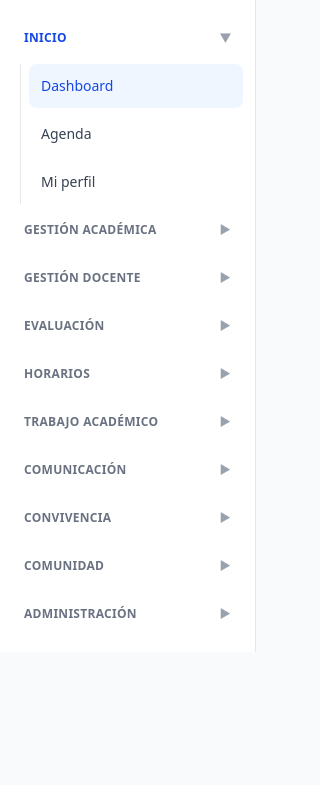
Test case: Sidebar por categorias › expande/colapsa categorias y recuerda estado
The width and height of the screenshot is (320, 785).
expect the text "Bandeja de entrada" is not shown: met
Click the button with aria-label "Categoría Comunicación" at (128, 470), box [12,448,243,492]
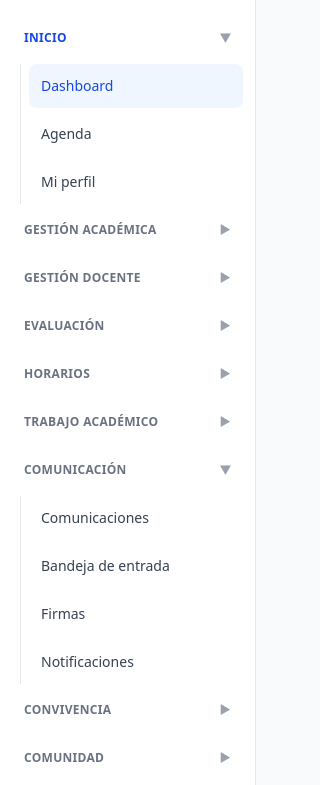
expect the link "Bandeja de entrada" is shown: met, box [41,556,170,575]
Click the button with aria-label "Categoría Comunicación" at (128, 470), box [12,448,243,492]
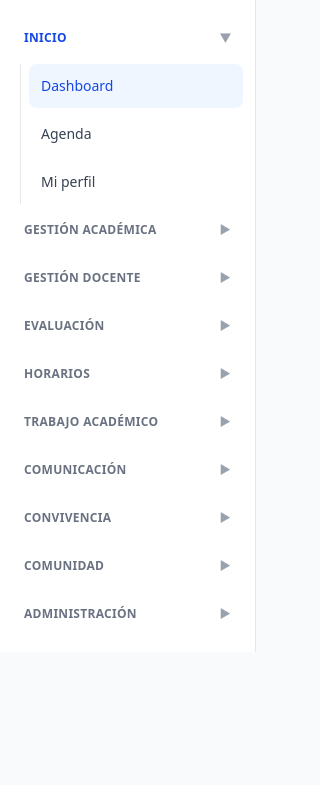
expect the link "Bandeja de entrada" is gone: met
